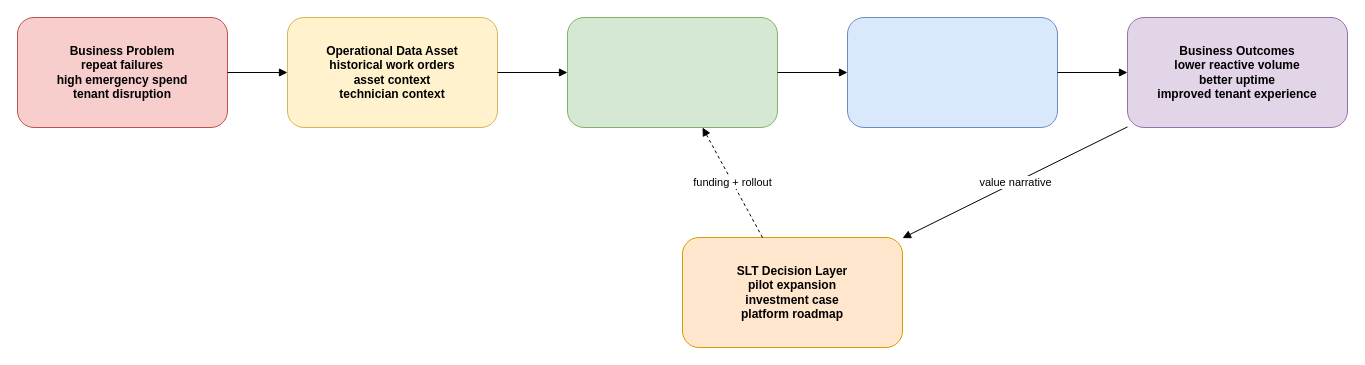
This 1365x365 diagram has some shape labels left out. The shapes that lost their labels are listed below. From the top down, each one's centre as x and y in pixels, then its label:
(672,72): Intelligence Layer pattern detection risk prediction PM recommendation
(952,72): Operating Action planner prioritization PM generation technician alignment
